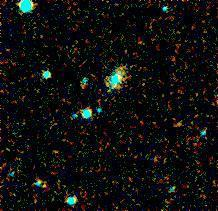star: (28, 171, 58, 201)
